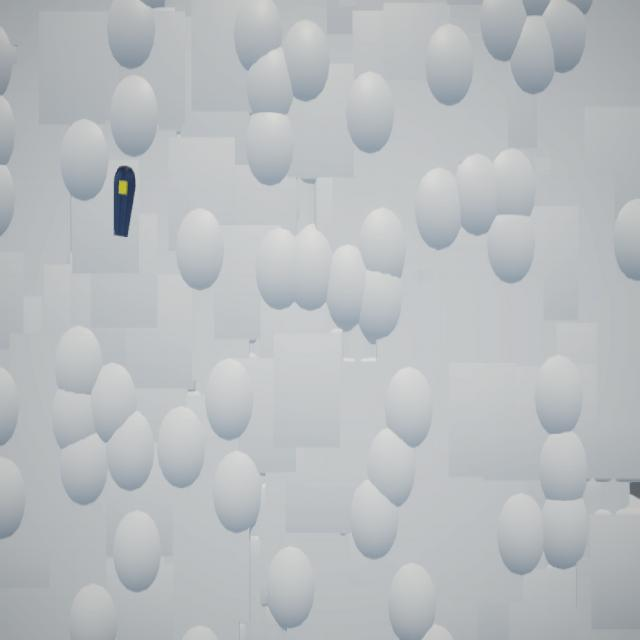handle_folk: (115, 166, 138, 238)
